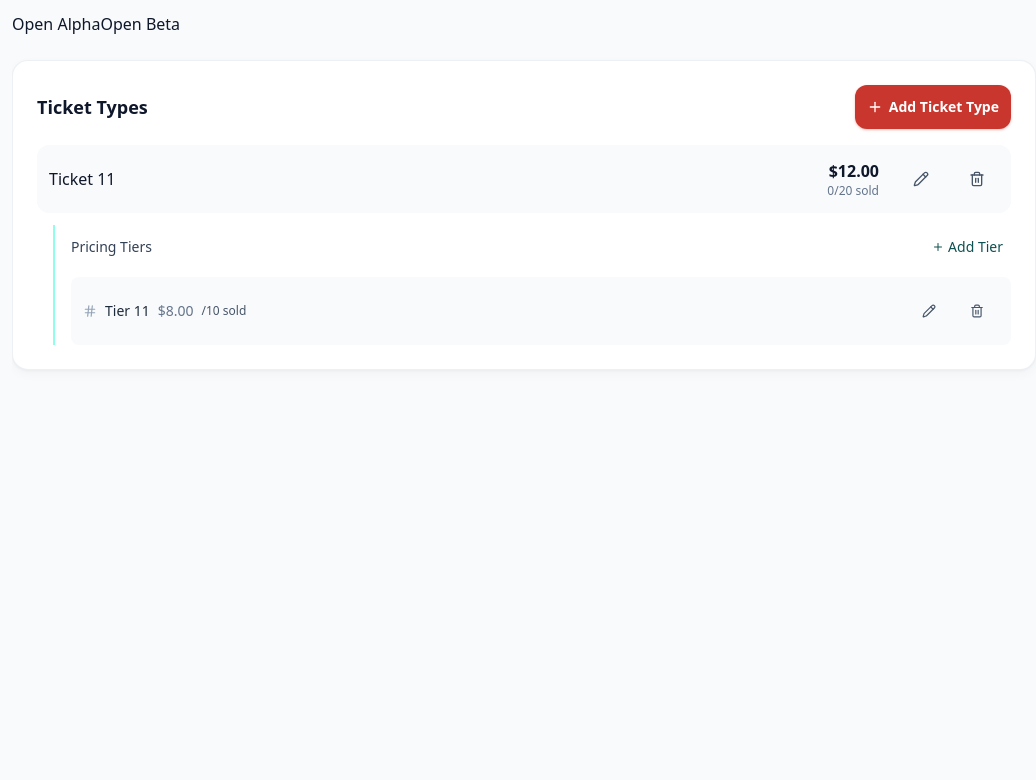
Test: retains the draft on a definitive rejection without replaying it during read refresh
Step 1. Click the button named "Edit Ticket 11" → click(921, 179), box [899, 157, 943, 201]
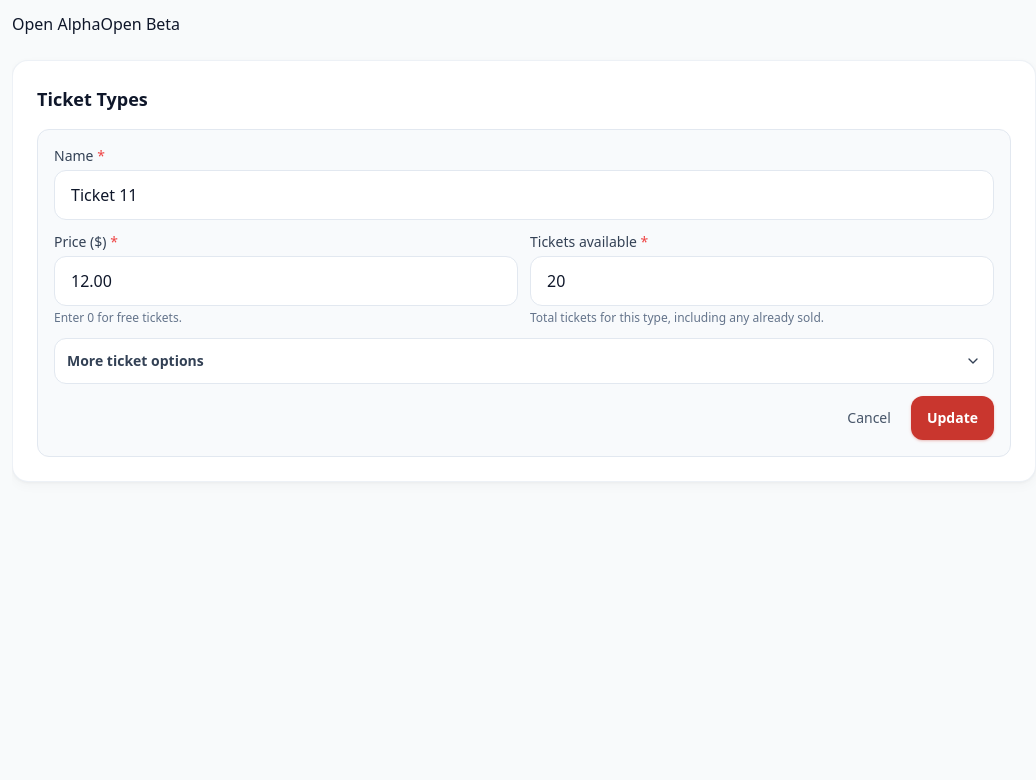
Step 2. Replace the text in the field labelled "Name *" with "Private ticket draft" → (524, 195), box [54, 170, 994, 220]
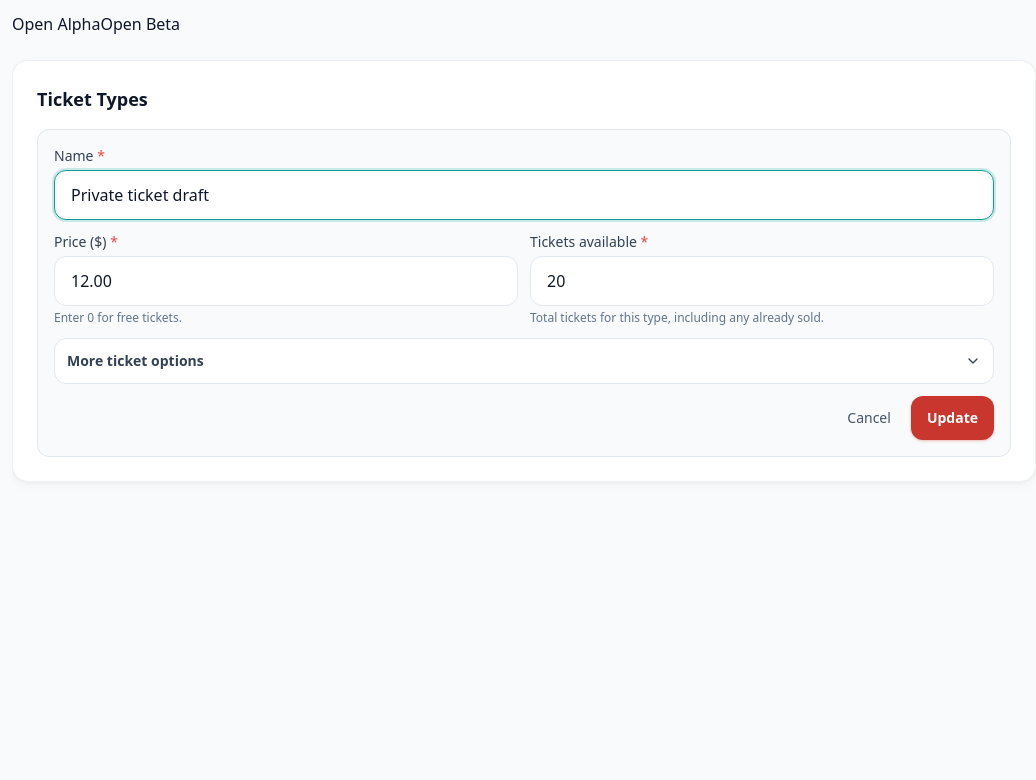
Step 3. Click the button "Update" → click(952, 418), box [911, 396, 994, 440]
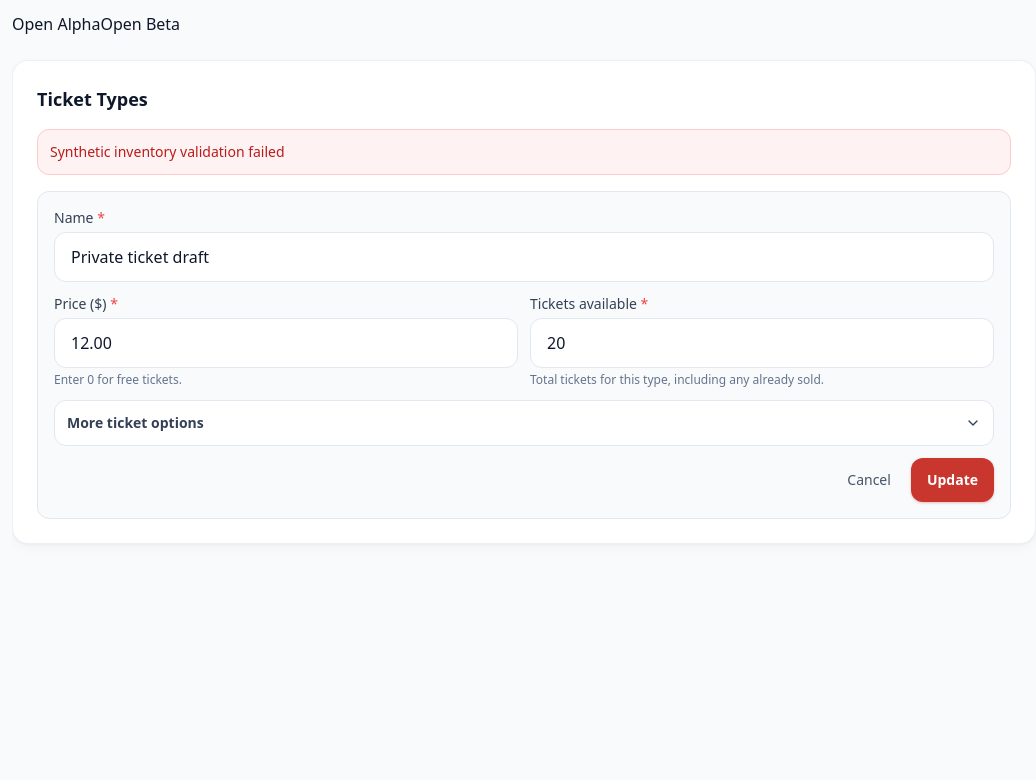
Now the text "Synthetic inventory validation failed" is shown, box [37, 129, 1011, 175]
